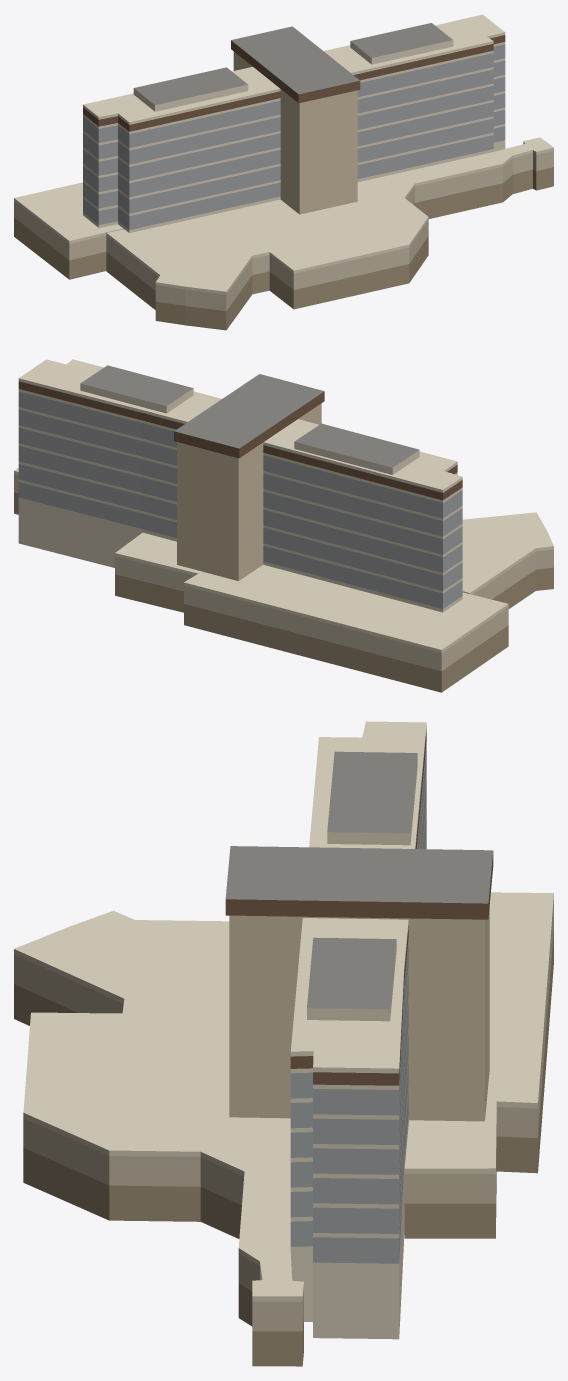
The model's file is the_westin_las_vegas_h_w135020970.glb.
3 renders of one model, top to bottom at view 1: azimuth 30°, elevation 25°; view 2: azimuth 150°, elevation 25°; view 3: azimuth 270°, elevation 25°, orthographic. The views are drawn at different scales.
Visible parts, largest first — view 1: Tower_w135020970; view 2: Tower_w135020970; view 3: Tower_w135020970.
Part boxes in pixels (x1,y1,x2,y2): Tower_w135020970: (14,14,553,330); Tower_w135020970: (14,359,553,692); Tower_w135020970: (14,721,553,1366).
Size of the model in its own units: 161 by 53.7 by 90.76.
